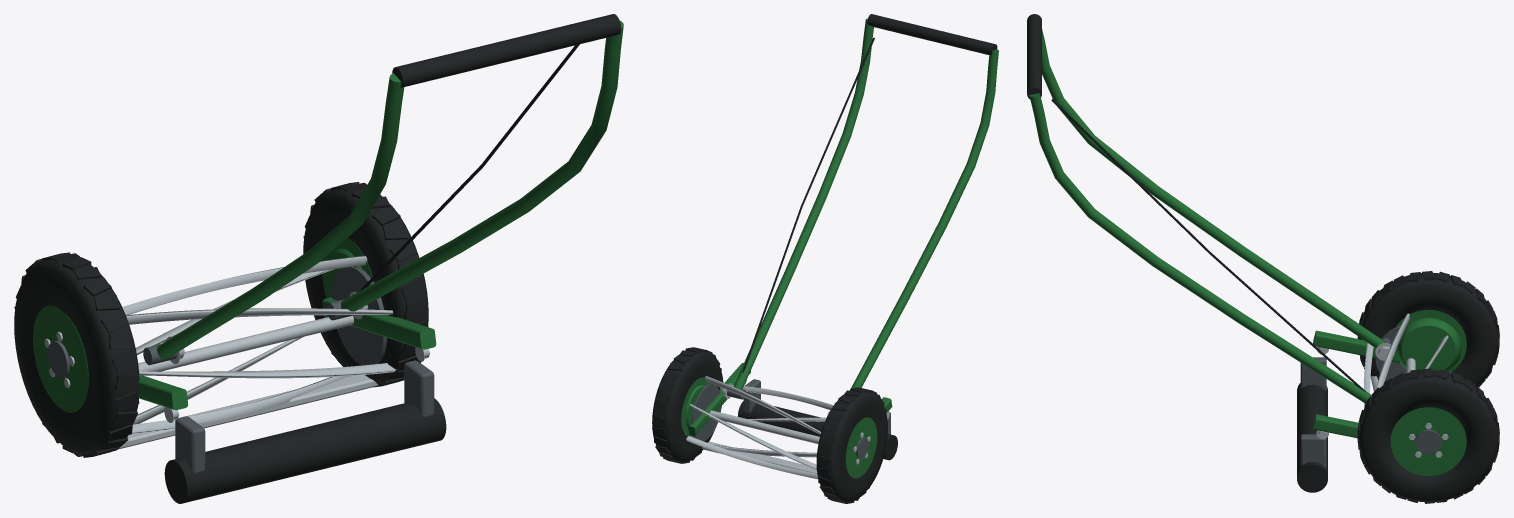
Rendered from ReelMower.fbx.
3 views of the same model, side by side, from view 1: azimuth 30°, elevation 25°; view 2: azimuth 150°, elevation 25°; view 3: azimuth 270°, elevation 25° (orthographic). The views are drawn at different scales.
Parts seen in each view (by area): view 1: ReelMower__Body, ReelMower__Wheel_L, ReelMower__Wheel_Reel, ReelMower__Wheel_R; view 2: ReelMower__Body, ReelMower__Wheel_L, ReelMower__Wheel_Reel, ReelMower__Wheel_R; view 3: ReelMower__Body, ReelMower__Wheel_R, ReelMower__Wheel_L, ReelMower__Wheel_Reel.
Boxes of the visible parts, <box> form: ReelMower__Body: <box>118,14,623,503</box>; ReelMower__Wheel_L: <box>14,252,139,457</box>; ReelMower__Wheel_Reel: <box>122,255,396,434</box>; ReelMower__Wheel_R: <box>303,182,428,387</box>; ReelMower__Body: <box>685,14,998,473</box>; ReelMower__Wheel_L: <box>816,387,887,503</box>; ReelMower__Wheel_Reel: <box>686,376,833,479</box>; ReelMower__Wheel_R: <box>652,347,723,463</box>; ReelMower__Body: <box>1027,14,1461,492</box>; ReelMower__Wheel_R: <box>1357,368,1499,503</box>; ReelMower__Wheel_L: <box>1357,271,1499,387</box>; ReelMower__Wheel_Reel: <box>1364,313,1450,408</box>.
Size of the model in its own units: 71.4 by 121 by 129.
Materials: 1 (1 with a texture image).
